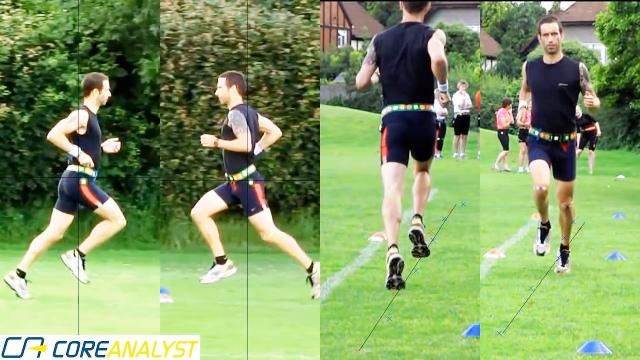berlari: (188, 67, 324, 305), (1, 70, 128, 302), (510, 11, 602, 279)
